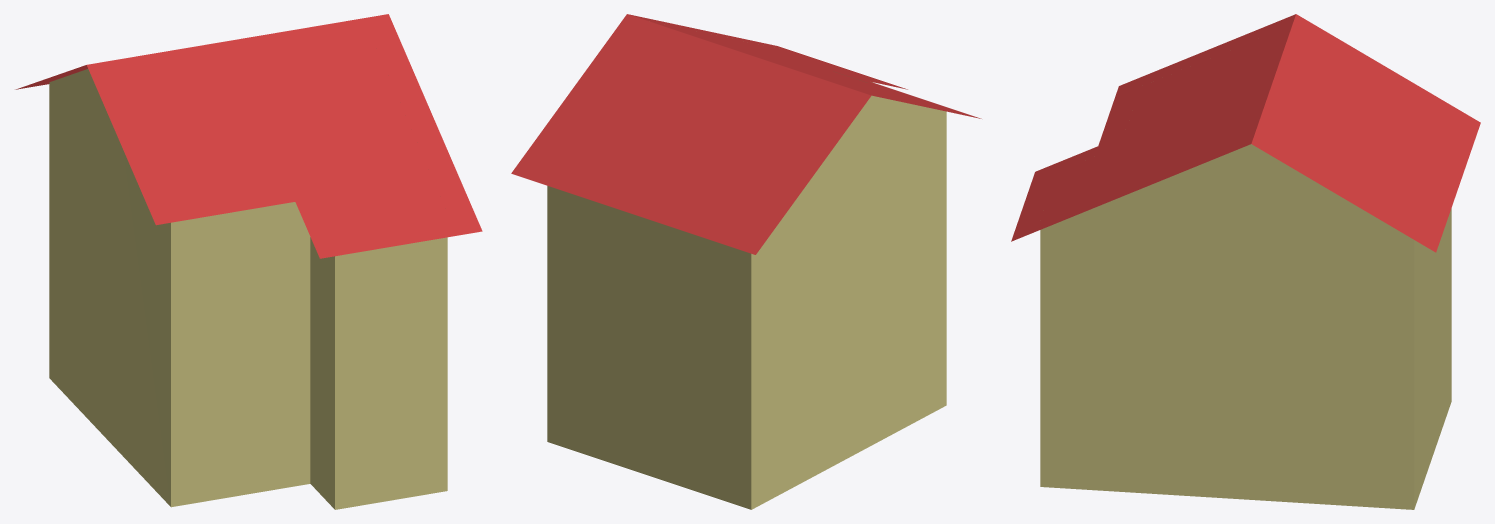
3 renders of one model, left to right at view 1: azimuth 30°, elevation 25°; view 2: azimuth 150°, elevation 25°; view 3: azimuth 270°, elevation 25°, orthographic. The views are drawn at different scales.
Parts seen in each view (by area): view 1: group_5, group_3, group_4; view 2: group_5, group_3, group_4; view 3: group_5, group_3, group_4.
Boxes of the visible parts, x1=… form: group_5: x1=49, y1=69, x2=447, y2=509; group_3: x1=87, y1=18, x2=481, y2=258; group_4: x1=15, y1=14, x2=482, y2=231; group_5: x1=547, y1=82, x2=946, y2=509; group_3: x1=511, y1=14, x2=944, y2=254; group_4: x1=629, y1=14, x2=981, y2=118; group_5: x1=1040, y1=144, x2=1451, y2=509; group_3: x1=1011, y1=14, x2=1480, y2=252; group_4: x1=1011, y1=14, x2=1319, y2=241.
Bounding box in the file's own units: 10.46 × 13.63 × 11.75.
